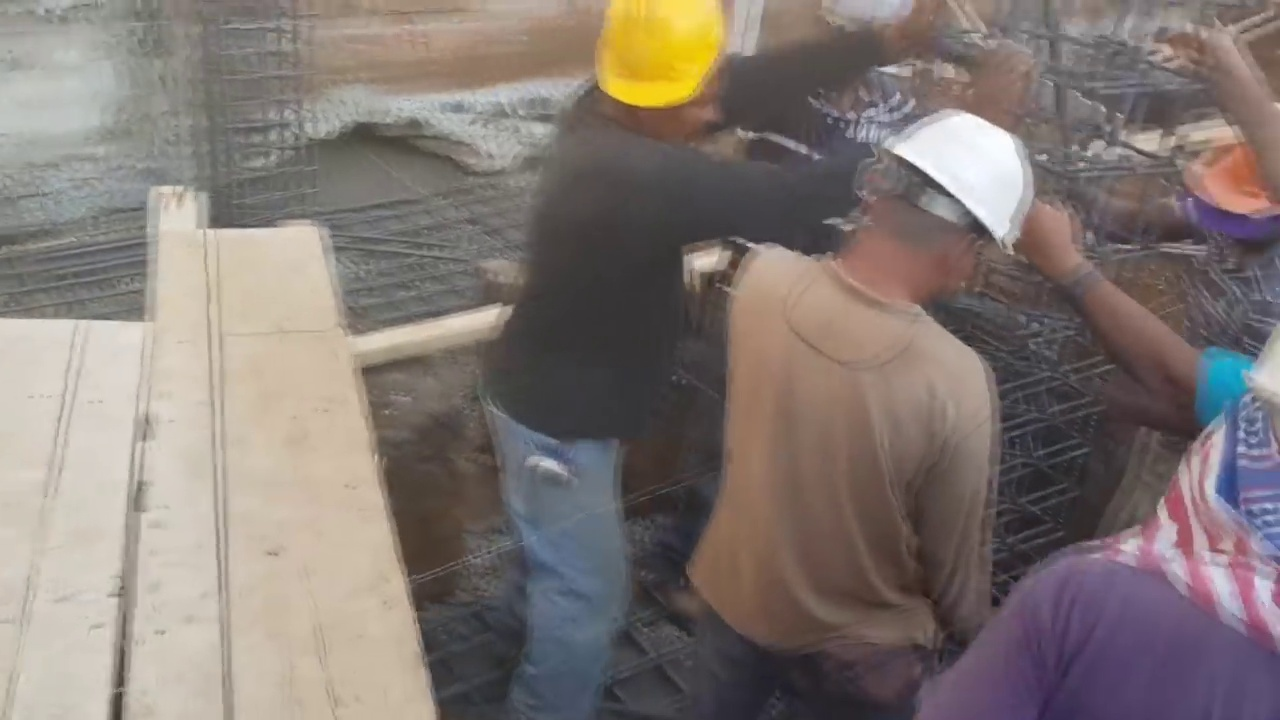helmet: (873, 105, 1035, 282), (596, 4, 733, 106), (1180, 122, 1280, 228)
helmet-on: (1136, 317, 1280, 640), (829, 102, 1034, 311), (570, 6, 730, 155), (1176, 106, 1280, 279)
person: (697, 98, 1034, 720), (480, 4, 733, 716), (913, 319, 1280, 716), (1095, 107, 1280, 538)
